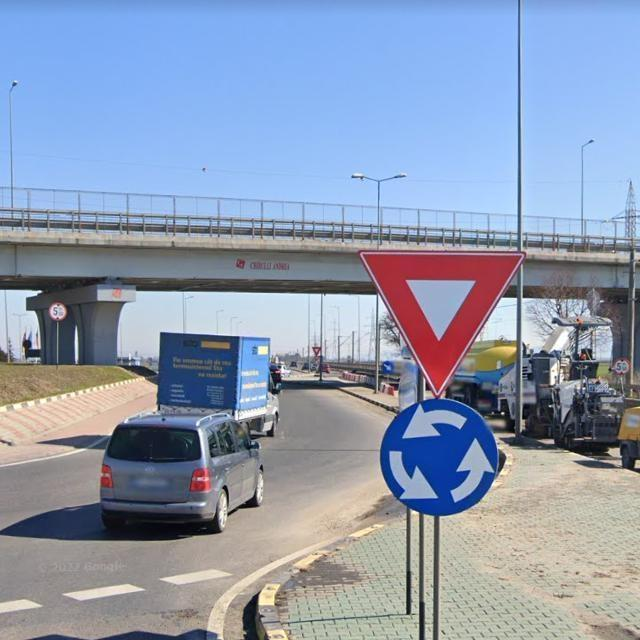prio_give_way: (360, 249, 513, 397)
